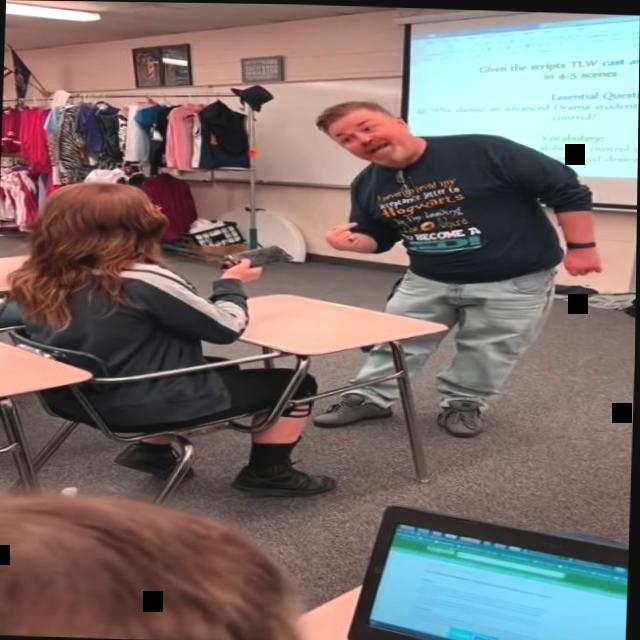NO-Mask: (333, 108, 421, 169)
